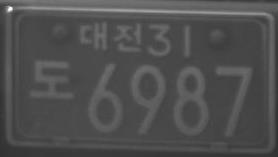1: (176, 22, 197, 58)
3: (146, 21, 173, 58)
6: (85, 62, 125, 134)
7: (214, 63, 255, 138)
8: (171, 63, 211, 138)
9: (127, 62, 168, 136)
대전_O: (77, 20, 143, 54)
도: (28, 58, 75, 101)
